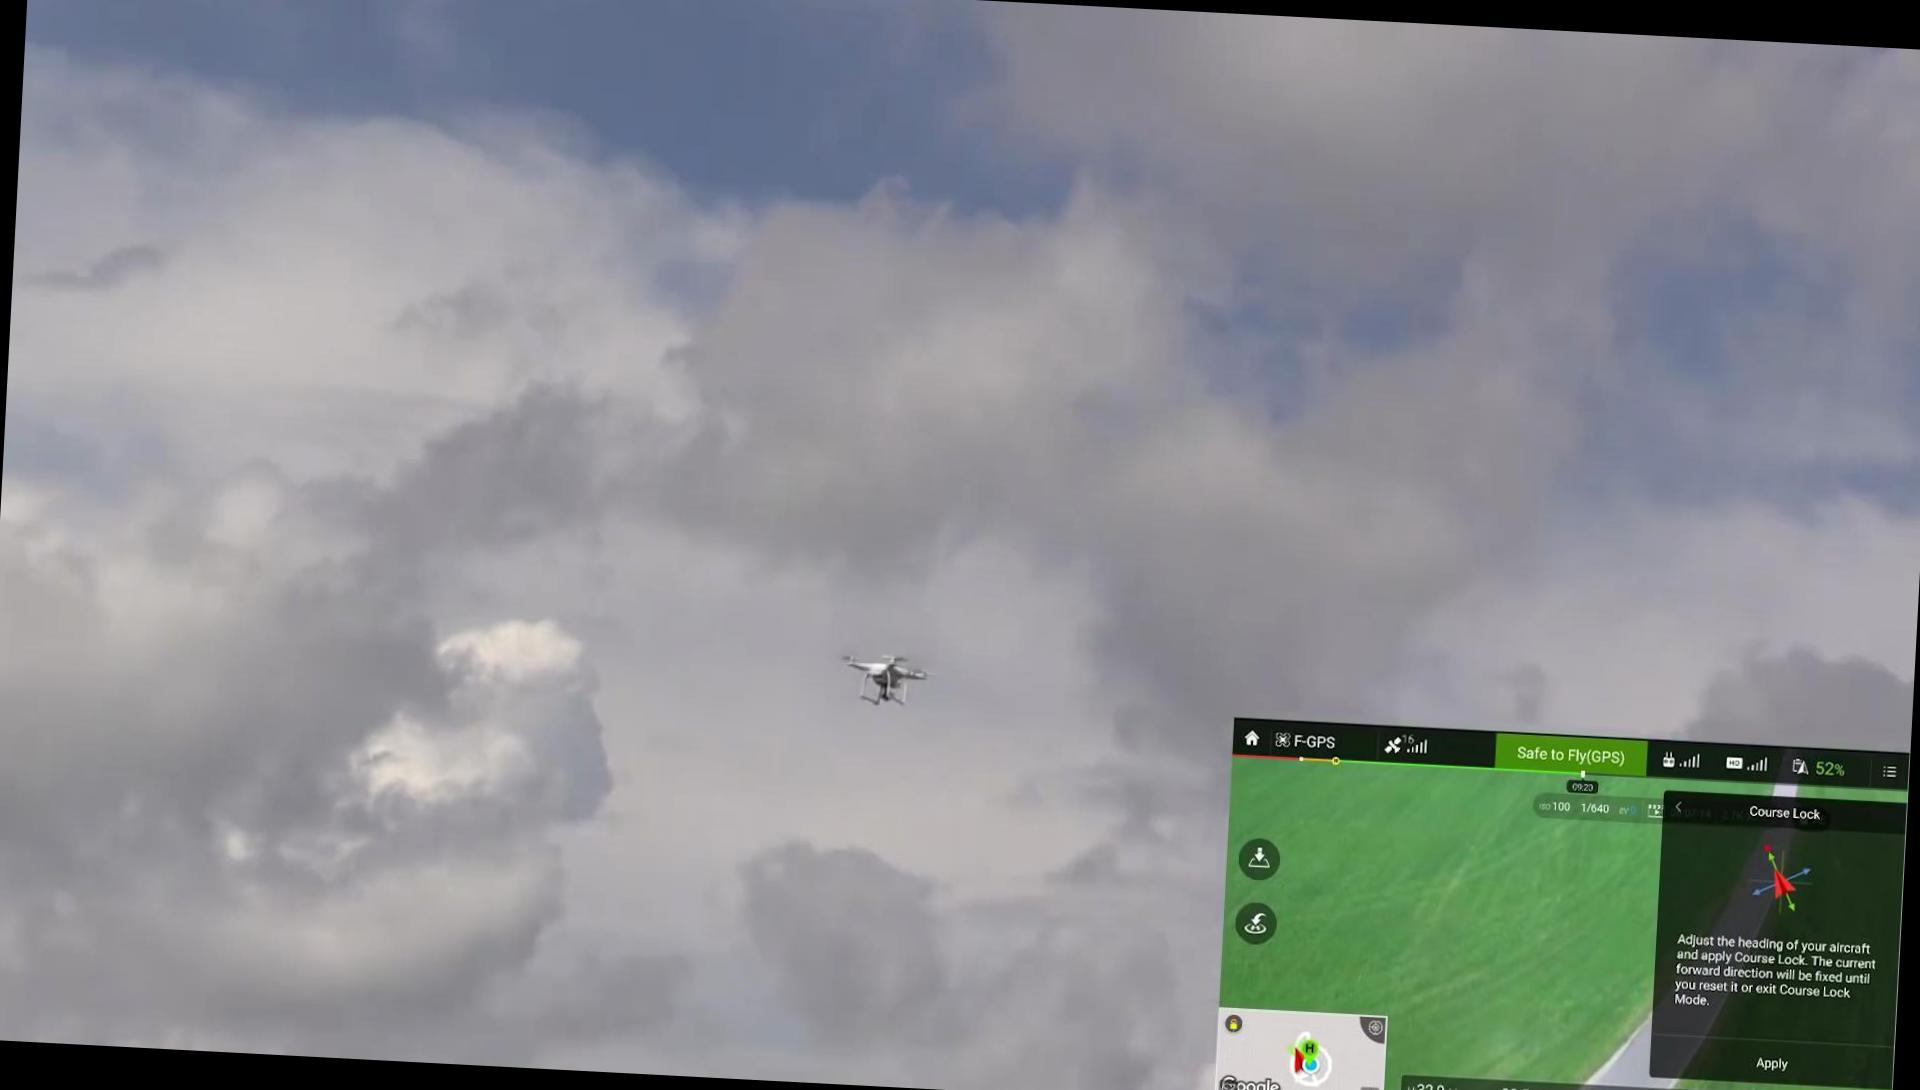drone: (840, 645, 931, 713)
